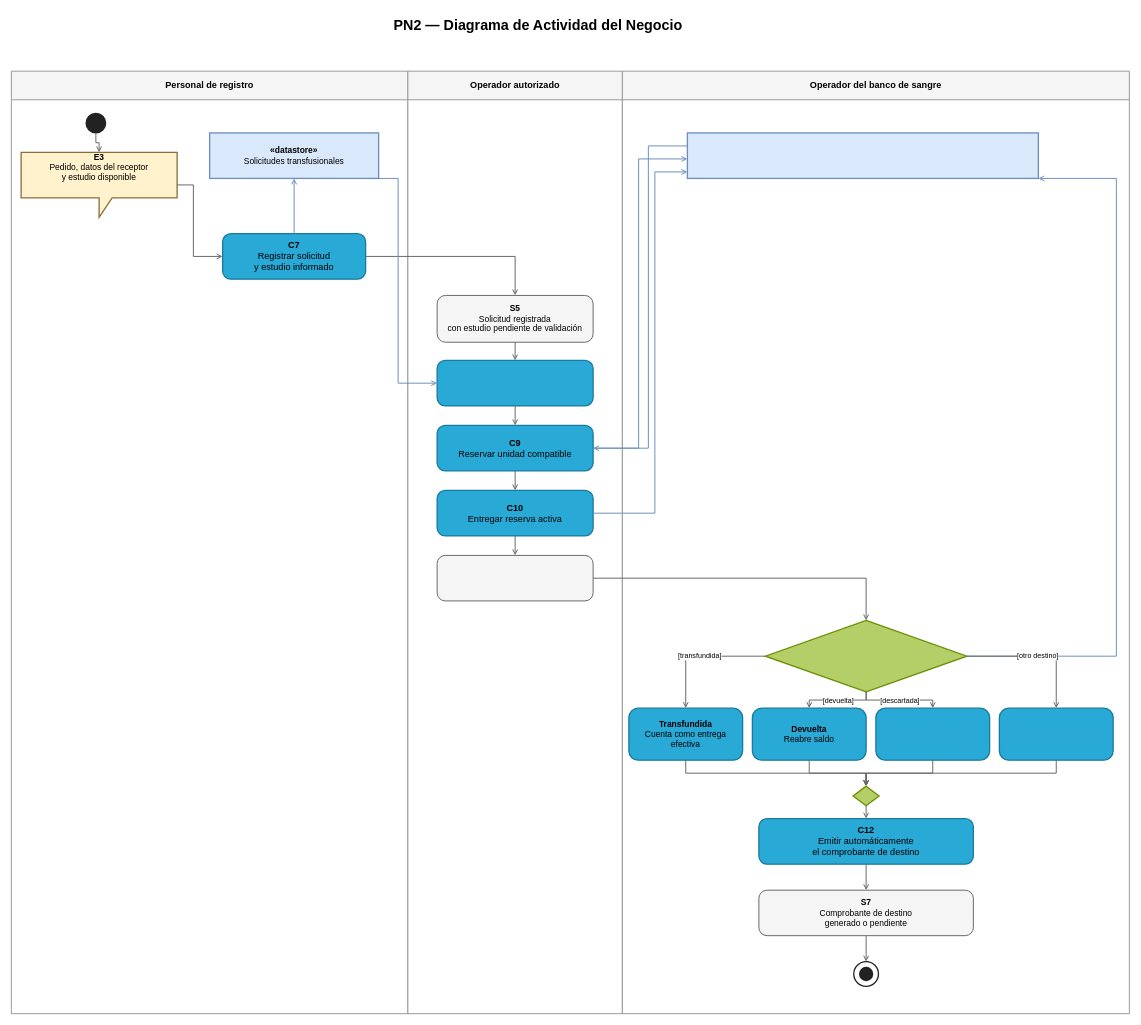
Some shapes in this 1141 by 1025 pixel diagram are drawn without their labels. The centre of each missing label's shape, as x and y in pixels:
"C11 Registrar destino de la unidad" belongs at (x=865, y=655).
"C8 Validar estudio" belongs at (x=514, y=382).
"Descartada Reabre saldo Estado terminal" belongs at (x=932, y=733).
"Otro destino configurado Reabre saldo" belongs at (x=1055, y=733).
"S6 Unidad entregada" belongs at (x=514, y=578).
"«datastore» Unidades, reservas, entregas y destinos" belongs at (x=862, y=155).
